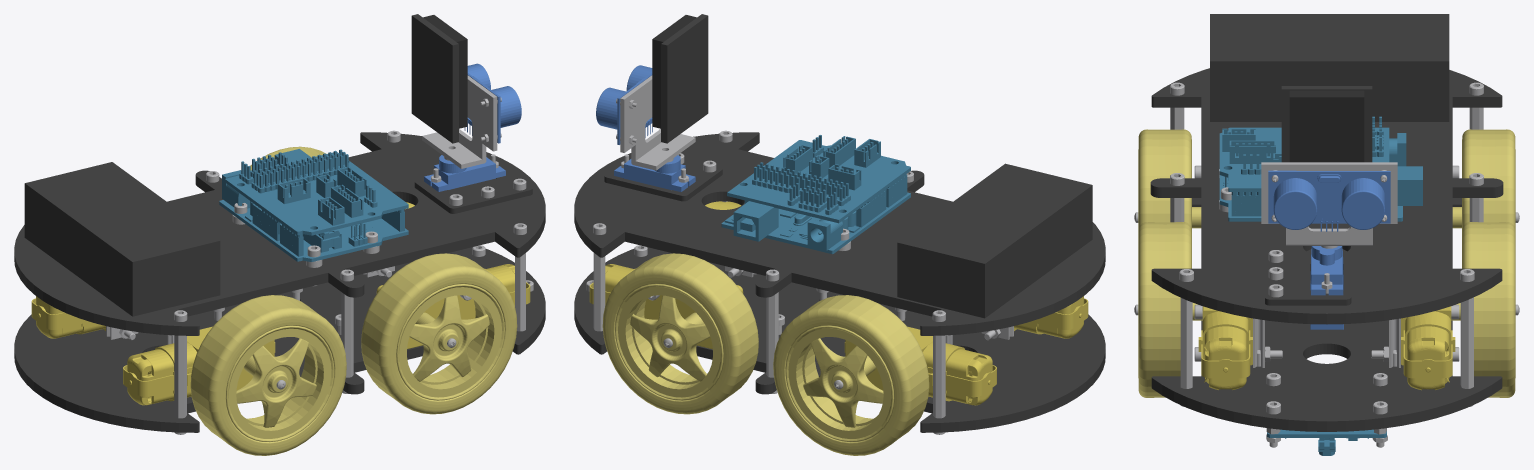
Rendered from elegoo_v4.glb.
The picture shows the model from 3 angles, left to right: view 1: azimuth 30°, elevation 25°; view 2: azimuth 150°, elevation 25°; view 3: azimuth 270°, elevation 25°; orthographic projection. The views are drawn at different scales.
Parts seen in each view (by area): view 1: base_link_acrylic.stl, base_link, front_right_wheel_wheel.stl, rear_right_wheel_wheel.stl, base_link_pcb.stl, base_link_motor.stl, sensor_pan, base_link_metal.stl, sensor_pan_metal.stl, base_link_blue.stl, sensor_pan_blue.stl; view 2: base_link_acrylic.stl, base_link, front_left_wheel_wheel.stl, rear_left_wheel_wheel.stl, base_link_pcb.stl, base_link_motor.stl, sensor_pan, base_link_metal.stl, sensor_pan_metal.stl, sensor_pan_blue.stl, base_link_blue.stl; view 3: base_link_acrylic.stl, base_link, base_link_metal.stl, base_link_pcb.stl, base_link_motor.stl, sensor_pan, front_right_wheel_wheel.stl, front_left_wheel_wheel.stl, sensor_pan_blue.stl, rear_left_wheel_wheel.stl, rear_right_wheel_wheel.stl, sensor_pan_metal.stl (+1 smaller).
Part boxes in pixels (bbox=[...]): base_link_acrylic.stl: bbox=[14, 132, 545, 432]; base_link: bbox=[24, 162, 220, 316]; front_right_wheel_wheel.stl: bbox=[361, 253, 517, 414]; rear_right_wheel_wheel.stl: bbox=[190, 295, 346, 455]; base_link_pcb.stl: bbox=[219, 149, 408, 261]; base_link_motor.stl: bbox=[31, 202, 530, 405]; sensor_pan: bbox=[411, 14, 467, 143]; base_link_metal.stl: bbox=[106, 130, 533, 434]; sensor_pan_metal.stl: bbox=[422, 75, 501, 168]; base_link_blue.stl: bbox=[424, 155, 505, 191]; sensor_pan_blue.stl: bbox=[464, 63, 521, 143]; base_link_acrylic.stl: bbox=[574, 132, 1105, 432]; base_link: bbox=[897, 163, 1092, 318]; front_left_wheel_wheel.stl: bbox=[602, 253, 758, 414]; rear_left_wheel_wheel.stl: bbox=[773, 295, 929, 455]; base_link_pcb.stl: bbox=[721, 135, 910, 254]; base_link_motor.stl: bbox=[589, 201, 1088, 405]; sensor_pan: bbox=[652, 14, 708, 143]; base_link_metal.stl: bbox=[586, 130, 1013, 434]; sensor_pan_metal.stl: bbox=[616, 75, 695, 170]; sensor_pan_blue.stl: bbox=[596, 65, 652, 144]; base_link_blue.stl: bbox=[614, 155, 695, 191]; base_link_acrylic.stl: bbox=[1150, 68, 1503, 431]; base_link: bbox=[1210, 14, 1449, 121]; base_link_metal.stl: bbox=[1170, 82, 1483, 447]; base_link_pcb.stl: bbox=[1219, 116, 1422, 455]; base_link_motor.stl: bbox=[1198, 306, 1455, 390]; sensor_pan: bbox=[1281, 86, 1372, 162]; front_right_wheel_wheel.stl: bbox=[1138, 222, 1202, 397]; front_left_wheel_wheel.stl: bbox=[1451, 222, 1515, 397]; sensor_pan_blue.stl: bbox=[1268, 170, 1390, 231]; rear_left_wheel_wheel.stl: bbox=[1452, 129, 1515, 241]; rear_right_wheel_wheel.stl: bbox=[1138, 129, 1201, 241]; sensor_pan_metal.stl: bbox=[1261, 162, 1397, 248].
Bounding box in the file's own units: 0.2317 × 0.1402 × 0.1442.
